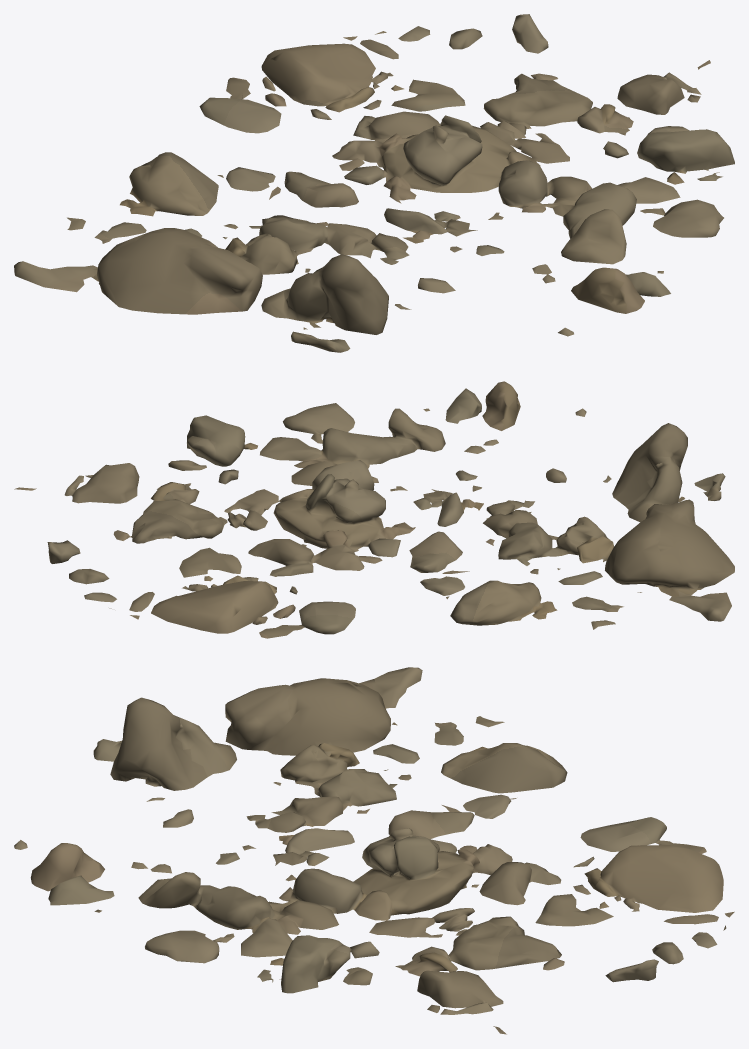
Rendered from ph_sandrocks.glb.
3 renders of one model, top to bottom at view 1: azimuth 30°, elevation 25°; view 2: azimuth 150°, elevation 25°; view 3: azimuth 270°, elevation 25°, orthographic. The views are drawn at different scales.
Visible parts, largest first — view 1: ph_sandrocks_lod1; view 2: ph_sandrocks_lod1; view 3: ph_sandrocks_lod1.
Part boxes in pixels (x1,y1,x2,y2): ph_sandrocks_lod1: (14,14,734,352); ph_sandrocks_lod1: (14,381,734,638); ph_sandrocks_lod1: (14,667,734,1034).
Bounding box in the file's own units: 4.27 × 0.3951 × 3.61.
Materials: 1 (1 with a texture image).
